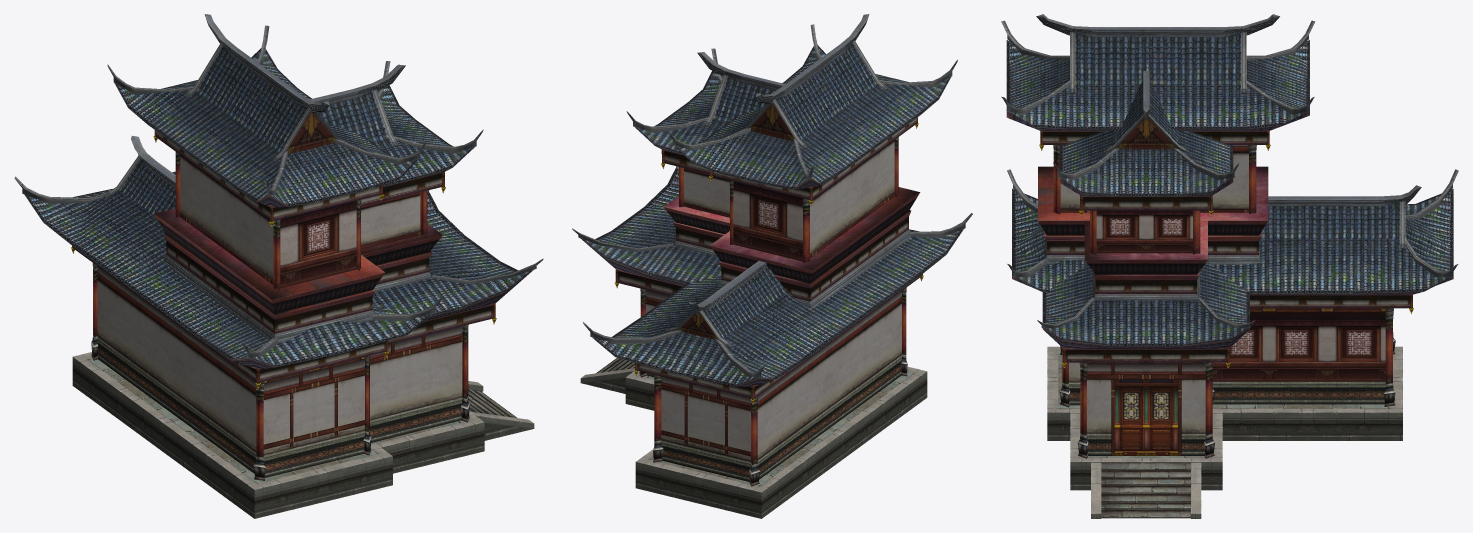
Rendered from Maincity06_Building_mj01_LOD1.FBX.
The picture shows the model from 3 angles, left to right: view 1: azimuth 30°, elevation 25°; view 2: azimuth 150°, elevation 25°; view 3: azimuth 270°, elevation 25°; orthographic projection. The views are drawn at different scales.
Visible parts, largest first — view 1: Maincity06_Building_mj01_01_LOD1, Maincity06_Building_mj01_02_LOD1; view 2: Maincity06_Building_mj01_01_LOD1, Maincity06_Building_mj01_02_LOD1; view 3: Maincity06_Building_mj01_01_LOD1, Maincity06_Building_mj01_02_LOD1.
Boxes of the visible parts, x1,y1,x2,y2 form: Maincity06_Building_mj01_01_LOD1: (24, 46, 534, 518); Maincity06_Building_mj01_02_LOD1: (14, 14, 543, 480); Maincity06_Building_mj01_01_LOD1: (580, 43, 963, 518); Maincity06_Building_mj01_02_LOD1: (572, 14, 972, 486); Maincity06_Building_mj01_01_LOD1: (1006, 33, 1453, 518); Maincity06_Building_mj01_02_LOD1: (1001, 14, 1458, 458).
Bounding box in the file's own units: 1382 × 1592 × 1682.
